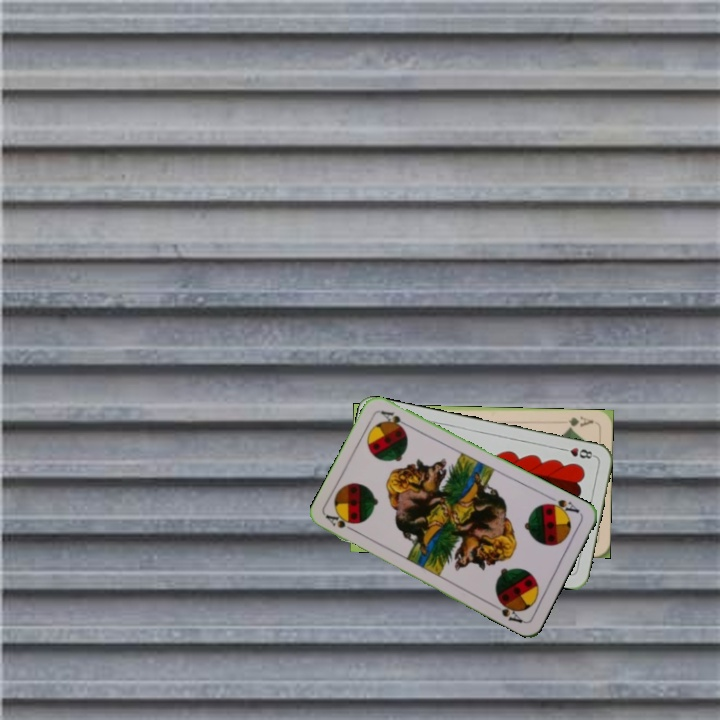GA: (564, 412, 596, 432)
H8: (557, 444, 598, 461)
SA: (542, 492, 582, 518), (322, 511, 360, 535)
